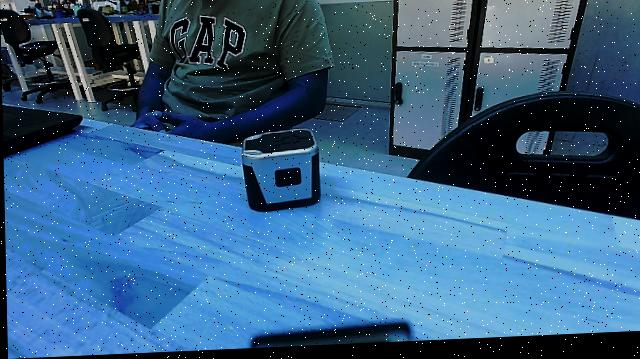adapter: (234, 130, 326, 219)
